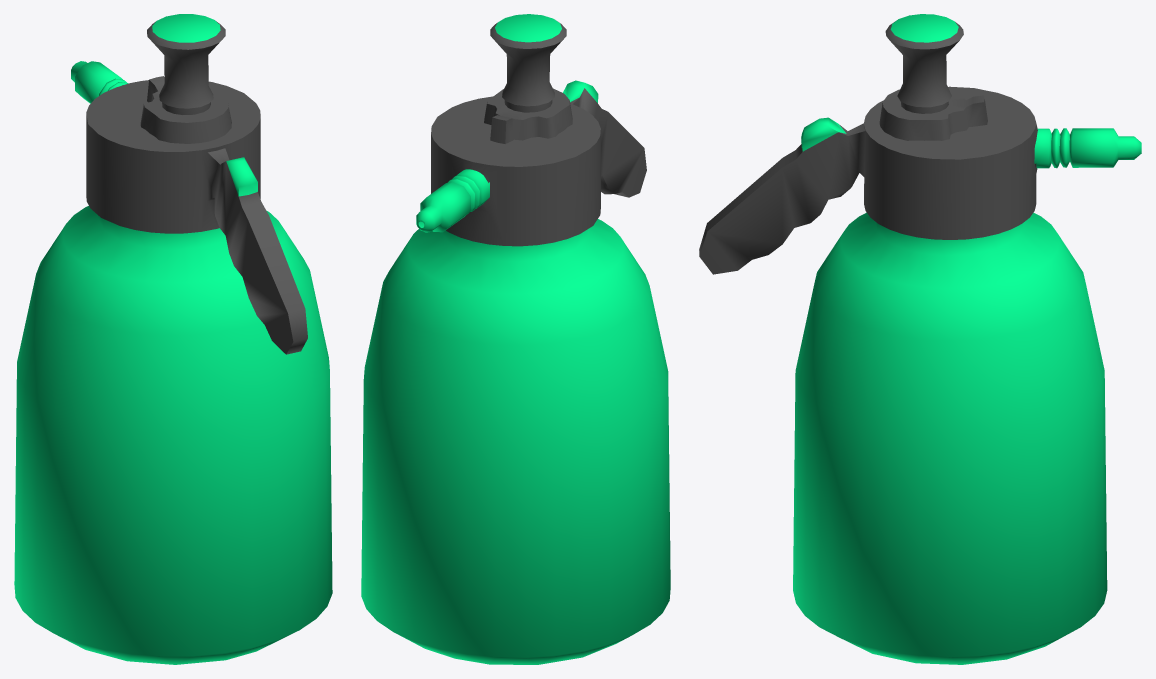
File: FoamSprinkler.fbx
3 views of the same model, side by side, from view 1: azimuth 30°, elevation 25°; view 2: azimuth 150°, elevation 25°; view 3: azimuth 270°, elevation 25° (orthographic). The views are drawn at different scales.
Visible parts, largest first — view 1: Cylinder.010; view 2: Cylinder.010; view 3: Cylinder.010.
Boxes of the visible parts, x1=… form: Cylinder.010: x1=14, y1=14, x2=332, y2=664; Cylinder.010: x1=361, y1=14, x2=670, y2=664; Cylinder.010: x1=699, y1=14, x2=1141, y2=664.
Size of the model in its own units: 186 by 381 by 261.
